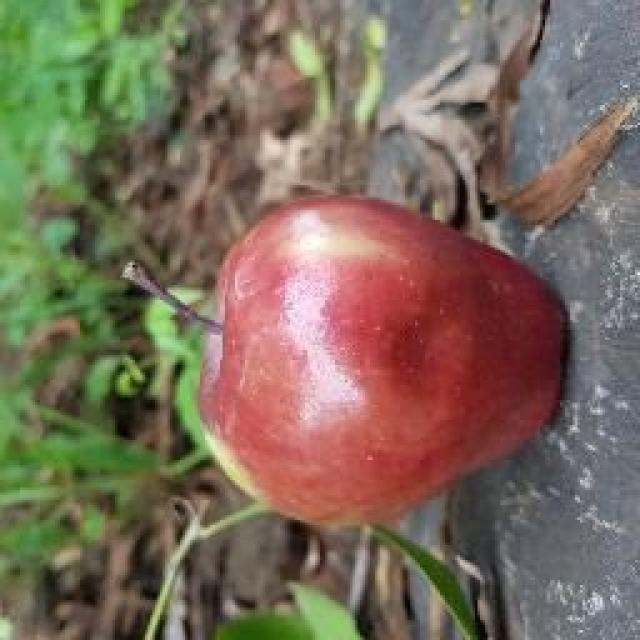Good_Apple: (198, 195, 570, 530)
